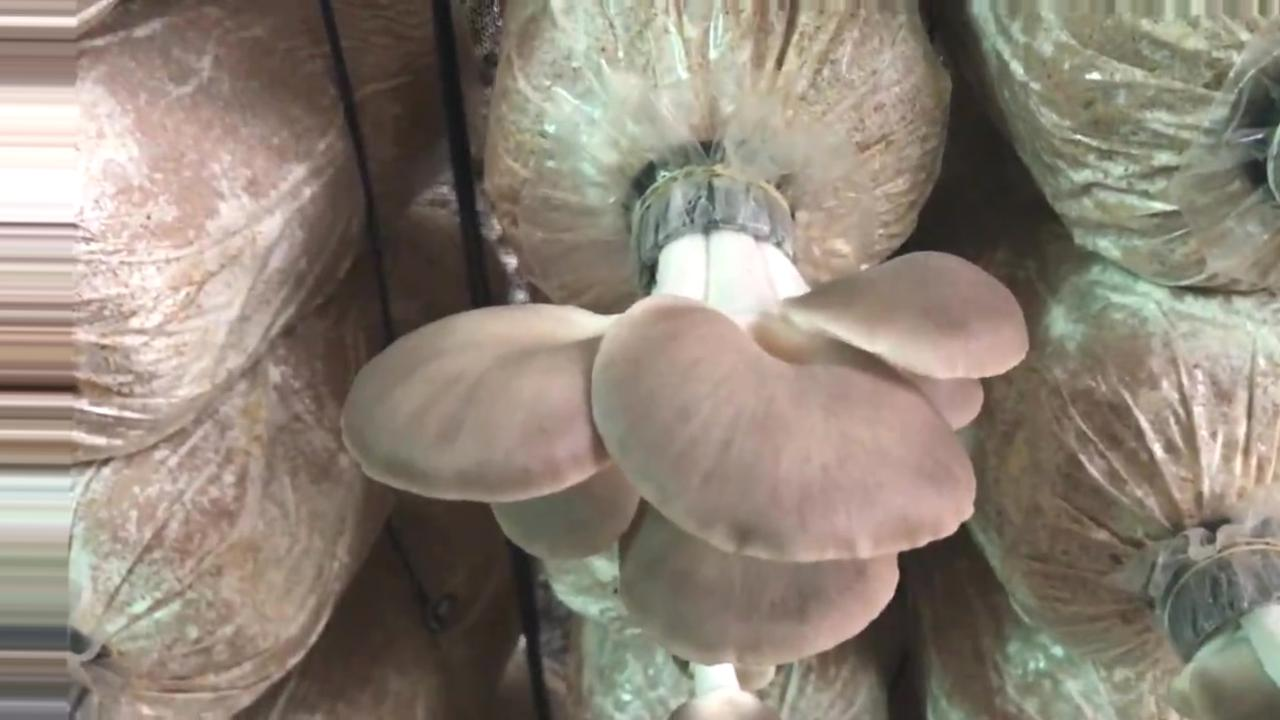nam: (341, 174, 1027, 662), (1172, 548, 1280, 720), (671, 657, 776, 720)
